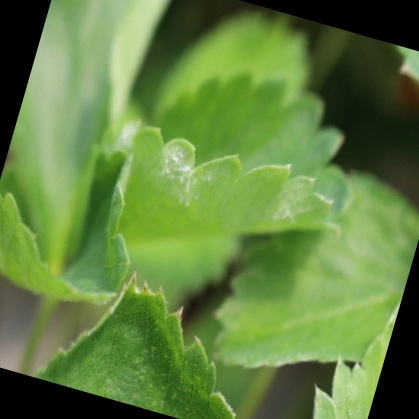Powdery_Leaf: (115, 144, 346, 264)
